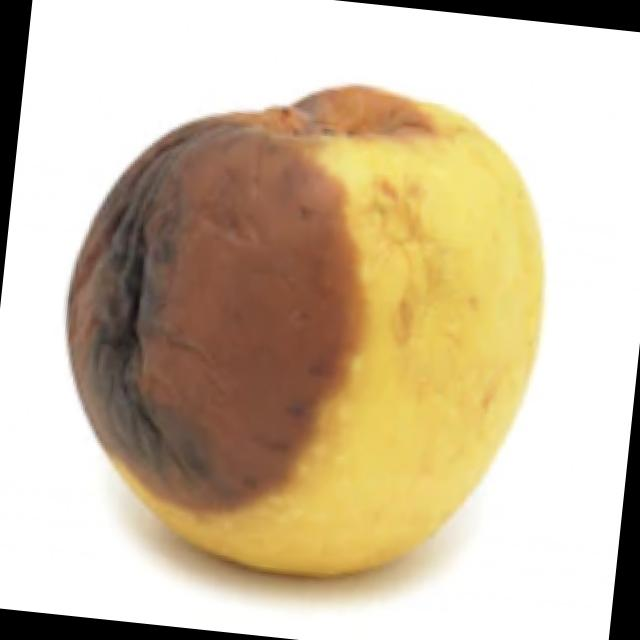rotten_apple: (41, 55, 561, 604)
